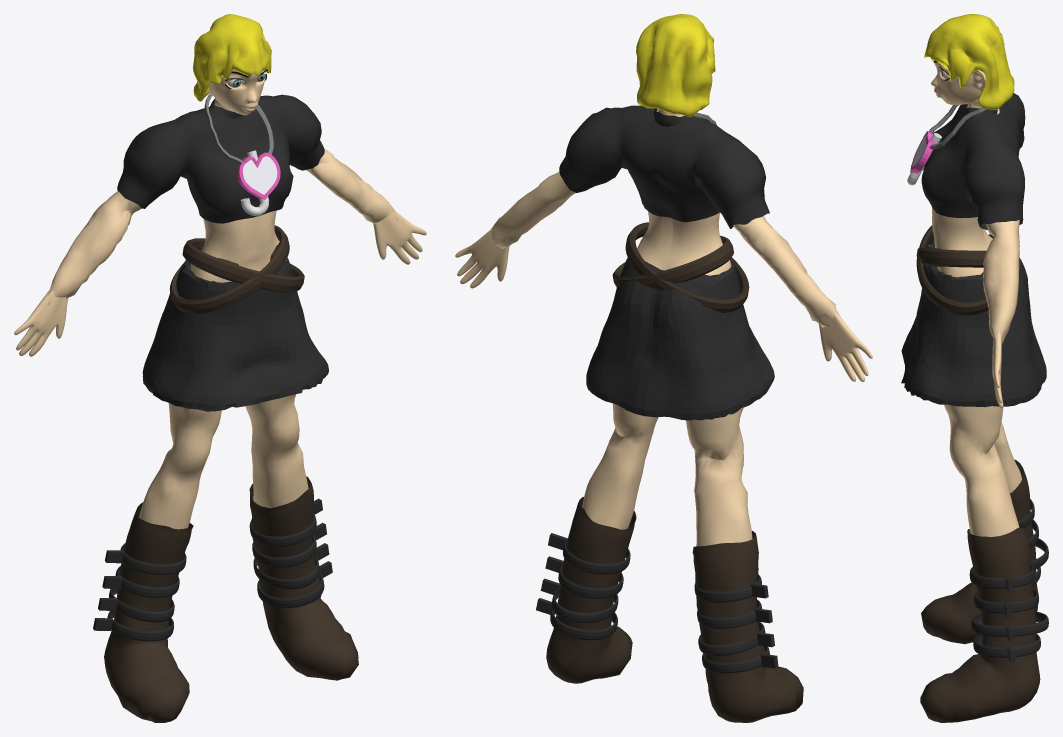
The model's file is Princess Punie-V2.fbx.
3 views of the same model, side by side, from view 1: azimuth 30°, elevation 25°; view 2: azimuth 150°, elevation 25°; view 3: azimuth 270°, elevation 25° (orthographic). The views are drawn at different scales.
Visible parts, largest first — view 1: Body, Boots, Skirt 2, Shirt, Belt 1, Hair, Hand, Head, Boot strap.003, Boot strap, Cylinder, Boot strap.002 (+1 smaller); view 2: Body, Skirt 2, Boots, Shirt, Hair, Belt 1, Hand, Boot strap.002, Boot strap.003, Boot strap, Boot strap.001; view 3: Boots, Skirt 2, Body, Shirt, Hair, Belt 1, Head, Boot strap.002, Boot strap, Boot strap.001, Boot strap.003, Hand (+2 smaller).
Part boxes in pixels (x1=…): Body: x1=47, y1=149, x2=397, y2=529; Boots: x1=104, y1=476, x2=358, y2=722; Skirt 2: x1=142, y1=245, x2=328, y2=411; Shirt: x1=117, y1=94, x2=324, y2=223; Belt 1: x1=169, y1=225, x2=304, y2=313; Hair: x1=192, y1=14, x2=271, y2=101; Hand: x1=14, y1=211, x2=426, y2=356; Head: x1=208, y1=69, x2=265, y2=115; Boot strap.003: x1=107, y1=573, x2=324, y2=641; Boot strap: x1=120, y1=513, x2=316, y2=574; Cylinder: x1=237, y1=152, x2=280, y2=199; Boot strap.002: x1=109, y1=555, x2=319, y2=622; Body: x1=490, y1=171, x2=840, y2=546; Skirt 2: x1=586, y1=258, x2=774, y2=420; Boots: x1=546, y1=497, x2=803, y2=722; Shirt: x1=559, y1=105, x2=769, y2=228; Hair: x1=636, y1=14, x2=715, y2=116; Belt 1: x1=612, y1=222, x2=749, y2=312; Hand: x1=455, y1=228, x2=872, y2=381; Boot strap.002: x1=552, y1=587, x2=765, y2=655; Boot strap.003: x1=550, y1=608, x2=769, y2=673; Boot strap: x1=563, y1=541, x2=761, y2=602; Boot strap.001: x1=558, y1=565, x2=762, y2=628; Boots: x1=920, y1=459, x2=1040, y2=722; Skirt 2: x1=901, y1=234, x2=1046, y2=407; Body: x1=931, y1=106, x2=1021, y2=536; Shirt: x1=921, y1=93, x2=1025, y2=230; Hair: x1=924, y1=14, x2=1014, y2=109; Belt 1: x1=916, y1=225, x2=988, y2=315; Head: x1=931, y1=62, x2=986, y2=108; Boot strap.002: x1=971, y1=538, x2=1048, y2=636; Boot strap: x1=969, y1=498, x2=1034, y2=588; Boot strap.001: x1=974, y1=519, x2=1038, y2=613; Boot strap.003: x1=973, y1=558, x2=1040, y2=657; Hand: x1=992, y1=332, x2=1003, y2=407.
Bounding box in the file's own units: 375 × 582 × 118.
Materials: 11 (1 with a texture image).
